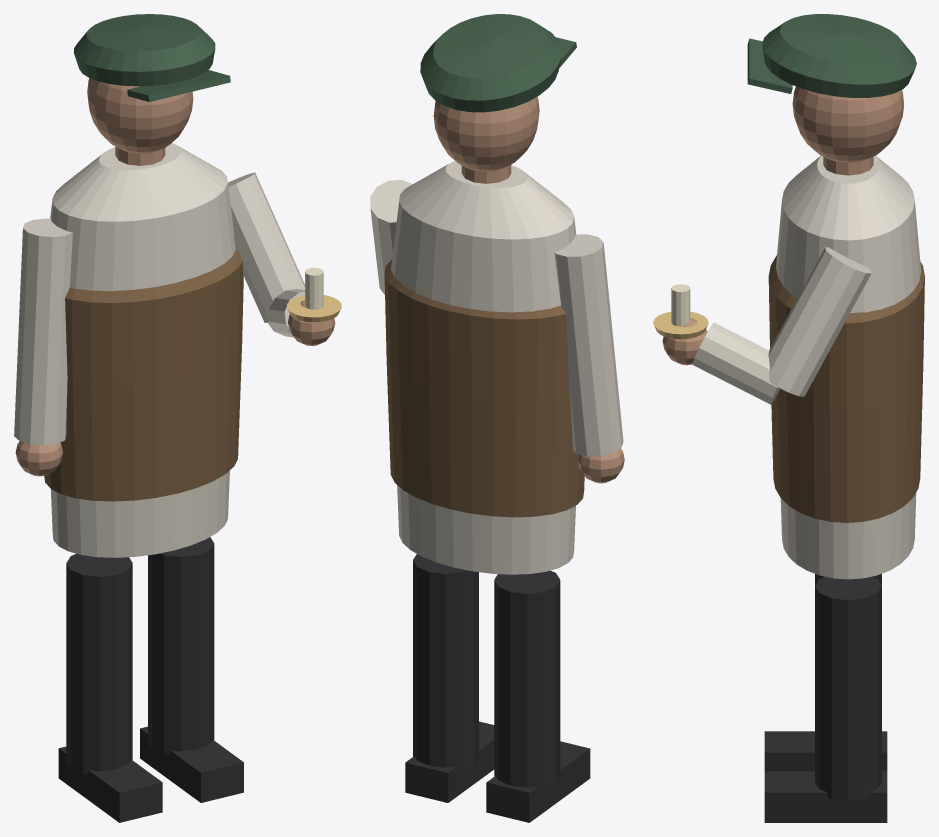
File: NPC_Finch.fbx
The picture shows the model from 3 angles, left to right: view 1: azimuth 30°, elevation 25°; view 2: azimuth 150°, elevation 25°; view 3: azimuth 270°, elevation 25°; orthographic projection.
Parts seen in each view (by area): view 1: Finch_Vest, Finch_Legs, Finch_Shirt, Finch_Sleeves, Finch_Cap, Finch_Head, Finch_Hands, Finch_CandleDish, Finch_Candle; view 2: Finch_Vest, Finch_Legs, Finch_Shirt, Finch_Sleeves, Finch_Cap, Finch_Head, Finch_Hands; view 3: Finch_Vest, Finch_Shirt, Finch_Legs, Finch_Sleeves, Finch_Cap, Finch_Head, Finch_Hands, Finch_CandleDish, Finch_Candle.
Boxes of the visible parts, x1,y1,x2,y2 form: Finch_Vest: [44, 250, 243, 501]; Finch_Legs: [58, 537, 243, 822]; Finch_Shirt: [50, 143, 235, 557]; Finch_Sleeves: [14, 172, 304, 445]; Finch_Cap: [74, 14, 230, 101]; Finch_Head: [87, 78, 193, 165]; Finch_Hands: [15, 300, 335, 476]; Finch_CandleDish: [287, 295, 341, 322]; Finch_Candle: [305, 267, 323, 309]; Finch_Vest: [384, 260, 584, 517]; Finch_Legs: [405, 554, 590, 822]; Finch_Shirt: [391, 161, 576, 574]; Finch_Sleeves: [370, 180, 623, 456]; Finch_Cap: [420, 14, 576, 112]; Finch_Head: [433, 96, 539, 183]; Finch_Hands: [578, 448, 624, 483]; Finch_Vest: [768, 255, 924, 522]; Finch_Shirt: [776, 155, 921, 579]; Finch_Legs: [764, 574, 887, 822]; Finch_Sleeves: [692, 247, 871, 404]; Finch_Cap: [747, 14, 916, 97]; Finch_Head: [792, 86, 904, 175]; Finch_Hands: [662, 317, 707, 365]; Finch_CandleDish: [653, 311, 708, 339]; Finch_Candle: [671, 284, 690, 326].
Size of the model in its own units: 0.554 by 1.51 by 0.4872.
